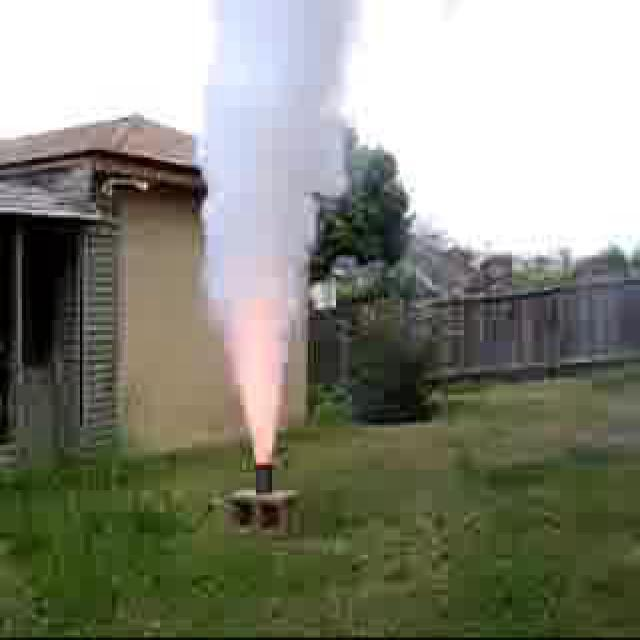Smoke: (206, 0, 326, 457)
